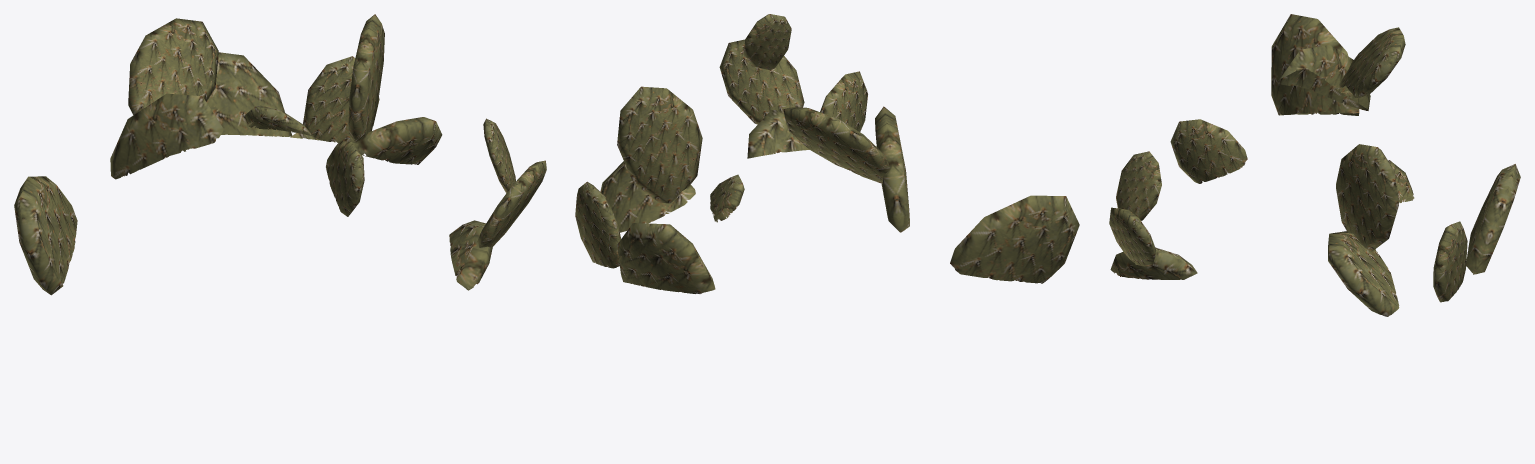
File: Cactus_v4.gltf
The picture shows the model from 3 angles, left to right: view 1: azimuth 30°, elevation 25°; view 2: azimuth 150°, elevation 25°; view 3: azimuth 270°, elevation 25°; orthographic projection. The views are drawn at different scales.
Parts seen in each view (by area): view 1: Cactus_v4(Clone); view 2: Cactus_v4(Clone); view 3: Cactus_v4(Clone).
Boxes of the visible parts, bbox=[...] form: Cactus_v4(Clone): bbox=[14, 14, 546, 295]; Cactus_v4(Clone): bbox=[575, 14, 1079, 293]; Cactus_v4(Clone): bbox=[1109, 14, 1520, 316].
Bounding box in the file's own units: 1.17 × 0.9239 × 0.9885.
Materials: 1 (1 with a texture image).
